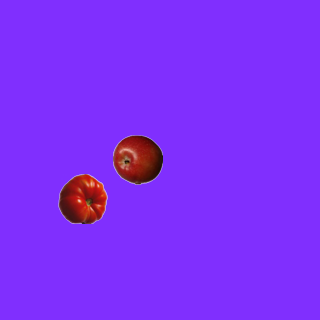Apple Braeburn: (112, 134, 162, 184)
Tomato 3: (57, 173, 107, 223)
